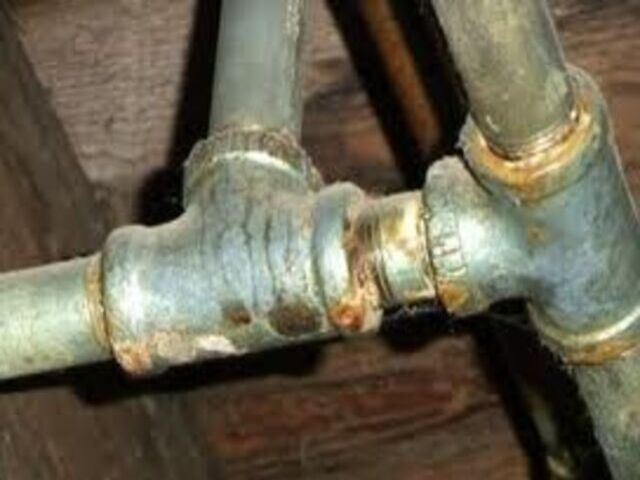Low: (105, 309, 318, 367), (467, 115, 595, 195), (315, 222, 395, 332)
